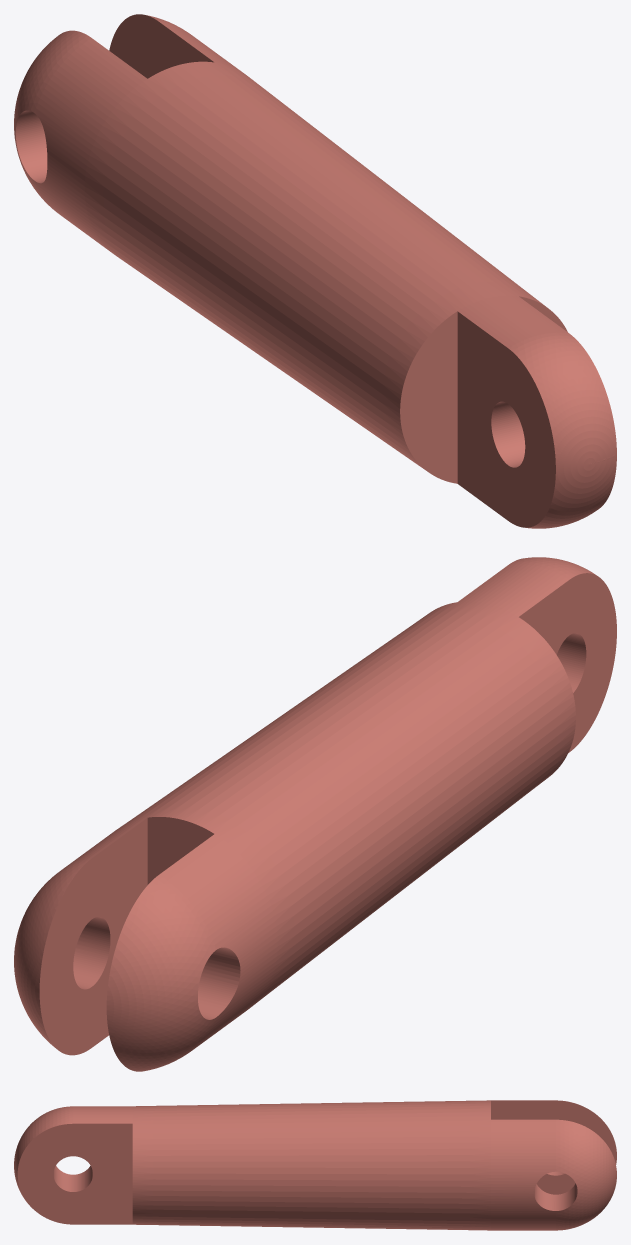
3 views of the same model, one above another, from view 1: azimuth 30°, elevation 25°; view 2: azimuth 150°, elevation 25°; view 3: azimuth 270°, elevation 25° (orthographic). The views are drawn at different scales.
Visible parts, largest first — view 1: node; view 2: node; view 3: node.
Boxes of the visible parts, <box> form: node: <box>14,14,616,528</box>; node: <box>14,557,616,1071</box>; node: <box>14,1100,616,1230</box>.
Size of the model in its own units: 0.109 by 0.1089 by 0.5048.
